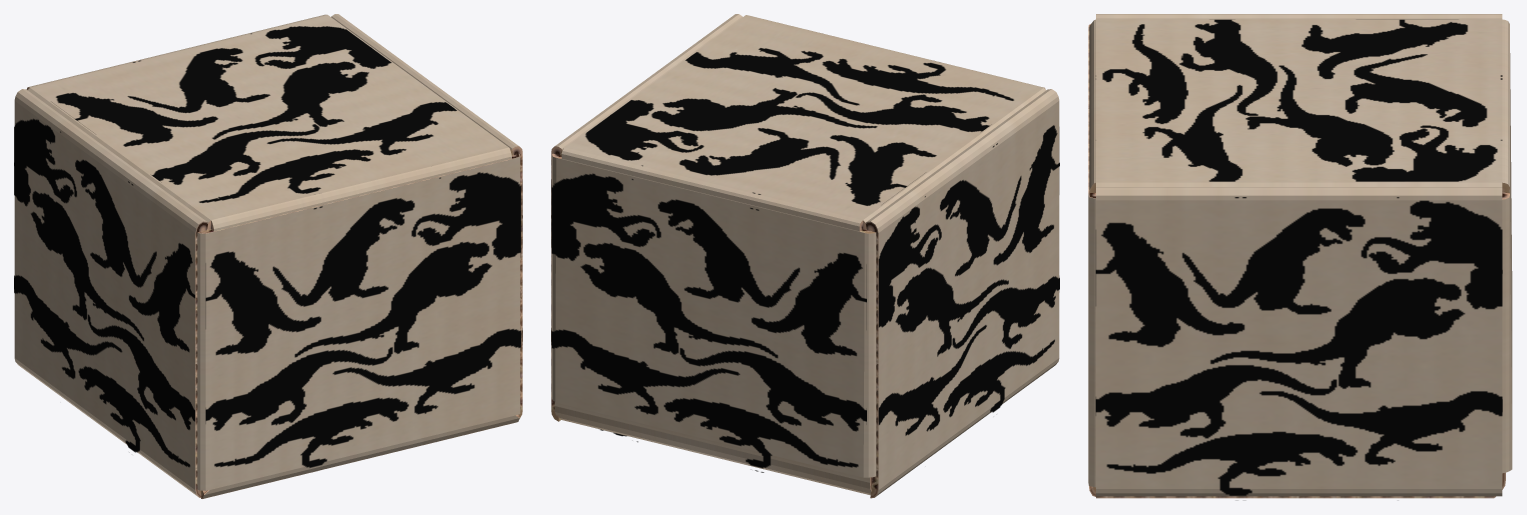
Rendered from pattern13-9x9x5.gltf.
3 renders of one model, left to right at view 1: azimuth 30°, elevation 25°; view 2: azimuth 150°, elevation 25°; view 3: azimuth 270°, elevation 25°, orthographic. The views are drawn at different scales.
Visible parts, largest first — view 1: Cube.002, Cube.005; view 2: Cube.002, Cube.005; view 3: Cube.002, Cube.005.
Part boxes in pixels (x1,y1,x2,y2): Cube.002: (14, 14, 522, 498); Cube.005: (14, 26, 522, 467); Cube.002: (551, 14, 1059, 498); Cube.005: (551, 48, 1059, 472); Cube.002: (1088, 14, 1512, 498); Cube.005: (1095, 19, 1502, 500).
Bounding box in the file's own units: 3 × 2.43 × 3.
Materials: 3 (3 with a texture image).
